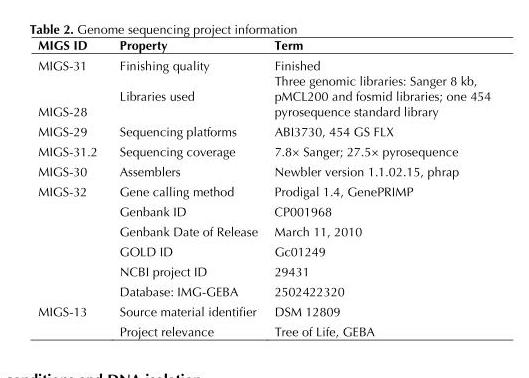table: (37, 37, 490, 338)
table column: (265, 37, 490, 338), (107, 37, 265, 338), (37, 37, 107, 338)
table column header: (37, 37, 490, 54)
table row: (37, 72, 490, 121), (37, 121, 490, 141), (37, 141, 490, 161), (37, 161, 490, 181), (37, 181, 490, 201), (37, 201, 490, 221), (37, 221, 490, 241), (37, 241, 490, 261), (37, 261, 490, 281), (37, 281, 490, 301), (37, 301, 490, 321), (37, 54, 490, 72), (37, 37, 490, 54), (37, 321, 490, 338)
table spanning cell: (37, 181, 107, 338)
